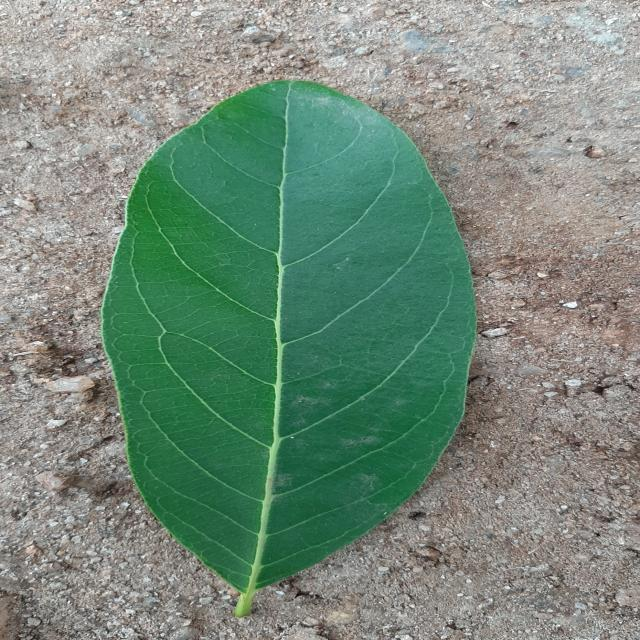seethaphala: (103, 81, 474, 616)
